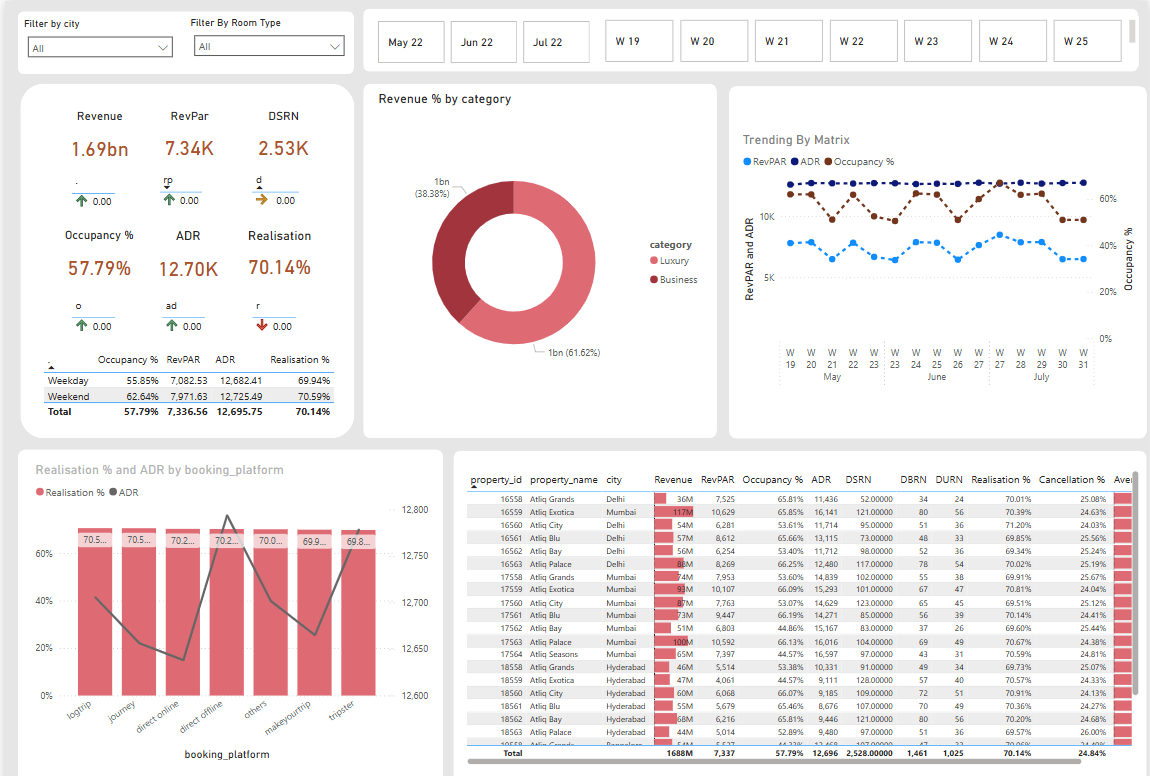

The page's visual inventory and layout, read from the dashboard file:
{"tool":"powerbi","page":{"name":"Page 1","canvas":[1500,1050],"ordinal":0},"visuals":[{"type":"shape","box":[588.6,590,910,440],"z":0},{"type":"shape","box":[17.1,588.6,558.6,440],"z":1000},{"type":"shape","box":[950,111.4,548.6,462.9],"z":2000},{"type":"shape","box":[470,108.6,464.3,465.7],"z":3000},{"type":"shape","box":[20.3,108.3,438.6,465.7],"z":4000},{"type":"shape","box":[470,10,1017.1,82.9],"z":5000},{"type":"shape","box":[17.1,12.9,441.4,82.9],"z":6000},{"type":"tableEx","fields":{"Values":["dim_hotels.property_id","dim_hotels.property_name","dim_hotels.city","Key_Measure.Revenue","Key_Measure.RevPAR","Key_Measure.Occupancy %","Key_Measure.ADR","Key_Measure.DSRN","Key_Measure.DBRN","Key_Measure.DURN","Key_Measure.Realisation %","Key_Measure.Cancellation %"]},"box":[600,611.4,892.9,395.7],"z":7000},{"type":"slicer","title":"Filter by city","fields":{"Values":["dim_hotels.city"]},"box":[20,21.4,210,70],"z":8000},{"type":"slicer","title":"Filter By Room Type","fields":{"Values":["dim_rooms.room_class"]},"box":[238.6,20,217.1,70],"z":9000},{"type":"advancedSlicerVisual","fields":{"Values":["dim_date.mmm yy"]},"box":[484.3,21.4,287.1,65.7],"z":10000},{"type":"advancedSlicerVisual","fields":{"Values":["dim_date.week no"]},"box":[782.5,20,705,65],"z":11000},{"type":"card","title":"Revenue","fields":{"Values":["Key_Measure.Revenue"]},"box":[64.2,142.1,118.8,84.3],"z":12000},{"type":"tableEx","fields":{"Values":["Key_Measure.."]},"box":[80.8,220.5,85.5,72.5],"z":13000},{"type":"card","title":"RevPar","fields":{"Values":["Key_Measure.RevPAR"]},"box":[183,142.1,118,84],"z":14000},{"type":"card","title":"DSRN","fields":{"Values":["Key_Measure.DSRN"]},"box":[306.5,142.1,118,84],"z":15000},{"type":"card","title":"Occupancy %","fields":{"Values":["Key_Measure.Occupancy %"]},"box":[64.2,298.9,117.6,84.3],"z":16000},{"type":"card","title":"ADR","fields":{"Values":["Key_Measure.ADR"]},"box":[181.8,298.9,117.6,84.3],"z":17000},{"type":"card","title":"Realisation","fields":{"Values":["Key_Measure.Realisation %"]},"box":[301.8,298.9,117.6,80.8],"z":18000},{"type":"donutChart","title":"Revenue % by category","fields":{"Category":["dim_hotels.category"],"Y":["Key_Measure.Revenue"]},"box":[484.3,118.6,440,431.4],"z":19000},{"type":"tableEx","fields":{"Values":["Key_Measure.Revpar WoW change %"]},"box":[197.3,218.1,89.1,78.4],"z":20000},{"type":"tableEx","fields":{"Values":["Key_Measure.DSRN WoW change %"]},"box":[318.4,218.1,85.5,72.5],"z":21000},{"type":"tableEx","fields":{"Values":["Key_Measure.Occupancy WoW change %"]},"box":[80.8,383.3,85.5,72.5],"z":22000},{"type":"tableEx","fields":{"Values":["Key_Measure.ad"]},"box":[200.5,382.9,86.1,73.5],"z":23000},{"type":"tableEx","fields":{"Values":["Key_Measure.Realisation WoW change %"]},"box":[318.4,383.3,85.5,72.5],"z":24000},{"type":"lineChart","title":"Trending By Matrix","fields":{"Category":["dim_date.mmm yy.Variation.Date Hierarchy.Month","dim_date.week no"],"Y":["Key_Measure.RevPAR","Key_Measure.ADR"],"Y2":["Key_Measure.Occupancy %"]},"box":[962.9,171.4,522.9,342.9],"z":25000},{"type":"lineStackedColumnComboChart","fields":{"Category":["fact_bookings.booking_platform"],"Y":["Key_Measure.Realisation %"],"Y2":["Key_Measure.ADR"]},"box":[34.3,605.7,525.7,395.7],"z":26000},{"type":"tableEx","fields":{"Values":["dim_date.day_type","Key_Measure.Occupancy %","Key_Measure.RevPAR","Key_Measure.ADR","Key_Measure.Realisation %"]},"box":[44.6,455.3,393.1,109.8],"z":27000}]}

Visuals, with their boxes on the page's 1500x1050 design canvas (x1, y1, x2, y2). These are canvas units, not pixel positions in the 1150x776 screenshot, which may show the page scaled, cropped or inside an application window:
shape: Rect(589, 590, 1499, 1030)
shape: Rect(17, 589, 576, 1029)
shape: Rect(950, 111, 1499, 574)
shape: Rect(470, 109, 934, 574)
shape: Rect(20, 108, 459, 574)
shape: Rect(470, 10, 1487, 93)
shape: Rect(17, 13, 458, 96)
tableEx - dim_hotels.property_id x dim_hotels.property_name: Rect(600, 611, 1493, 1007)
"Filter by city" slicer: Rect(20, 21, 230, 91)
"Filter By Room Type" slicer: Rect(239, 20, 456, 90)
advancedSlicerVisual - dim_date.mmm yy: Rect(484, 21, 771, 87)
advancedSlicerVisual - dim_date.week no: Rect(782, 20, 1488, 85)
"Revenue" card: Rect(64, 142, 183, 226)
tableEx - Key_Measure..: Rect(81, 220, 166, 293)
"RevPar" card: Rect(183, 142, 301, 226)
"DSRN" card: Rect(306, 142, 424, 226)
"Occupancy %" card: Rect(64, 299, 182, 383)
"ADR" card: Rect(182, 299, 299, 383)
"Realisation" card: Rect(302, 299, 419, 380)
"Revenue % by category" donutChart: Rect(484, 119, 924, 550)
tableEx - Key_Measure.Revpar WoW change %: Rect(197, 218, 286, 296)
tableEx - Key_Measure.DSRN WoW change %: Rect(318, 218, 404, 291)
tableEx - Key_Measure.Occupancy WoW change %: Rect(81, 383, 166, 456)
tableEx - Key_Measure.ad: Rect(200, 383, 287, 456)
tableEx - Key_Measure.Realisation WoW change %: Rect(318, 383, 404, 456)
"Trending By Matrix" lineChart: Rect(963, 171, 1486, 514)
lineStackedColumnComboChart - fact_bookings.booking_platform x Key_Measure.Realisation %: Rect(34, 606, 560, 1001)
tableEx - dim_date.day_type x Key_Measure.Occupancy %: Rect(45, 455, 438, 565)
